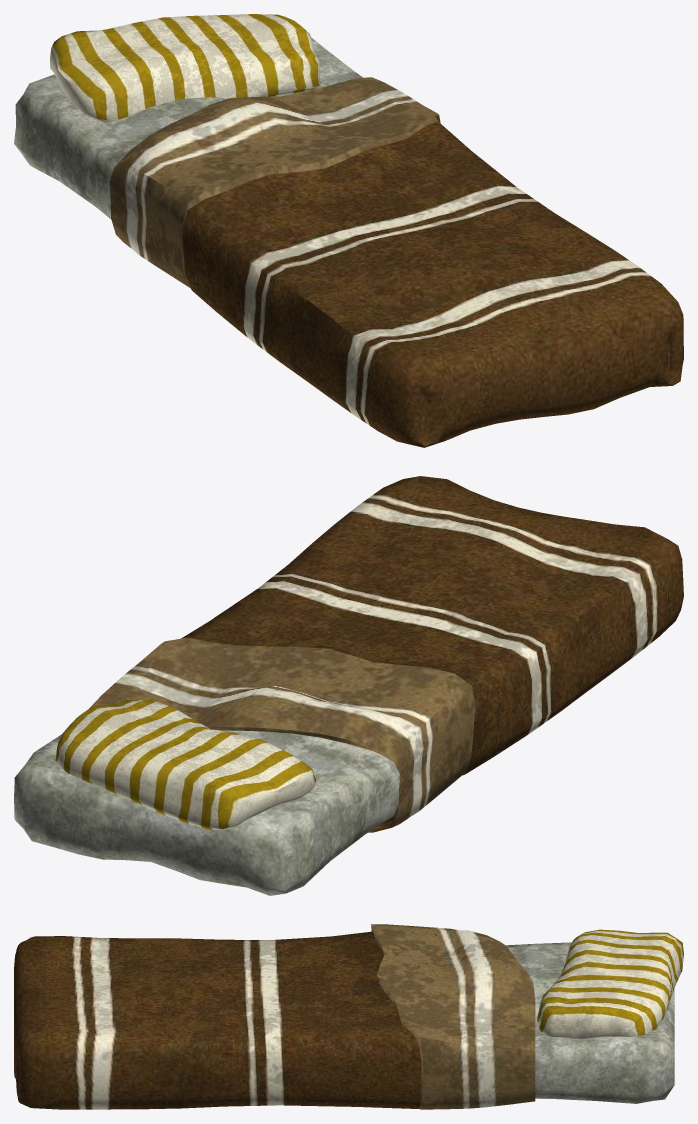
The model's file is Bed_4.glb.
3 renders of one model, top to bottom at view 1: azimuth 30°, elevation 25°; view 2: azimuth 150°, elevation 25°; view 3: azimuth 270°, elevation 25°, orthographic. The views are drawn at different scales.
Parts seen in each view (by area): view 1: Bed_4; view 2: Bed_4; view 3: Bed_4.
Boxes of the visible parts, <box> form: Bed_4: <box>14,14,683,447</box>; Bed_4: <box>14,476,683,895</box>; Bed_4: <box>14,924,683,1109</box>.
Bounding box in the file's own units: 0.8186 × 0.3208 × 1.98.
2 materials, 2 textured.
